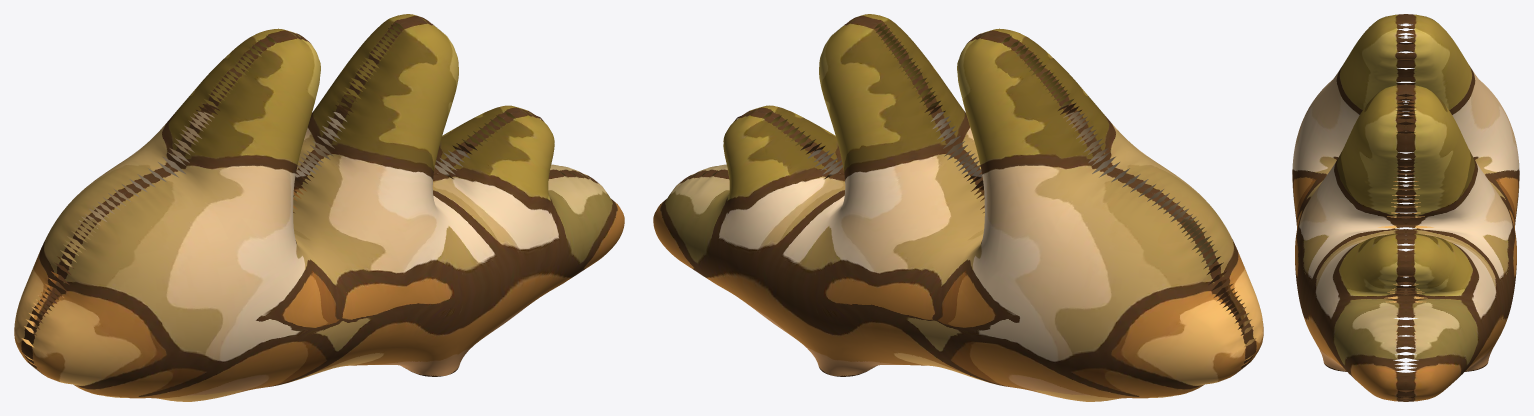
The model's file is sandstone_spurs.glb.
The picture shows the model from 3 angles, left to right: view 1: azimuth 30°, elevation 25°; view 2: azimuth 150°, elevation 25°; view 3: azimuth 270°, elevation 25°; orthographic projection. The views are drawn at different scales.
Parts seen in each view (by area): view 1: sandstone_spurs; view 2: sandstone_spurs; view 3: sandstone_spurs.
Boxes of the visible parts, x1=… form: sandstone_spurs: x1=14, y1=14, x2=624, y2=401; sandstone_spurs: x1=653, y1=14, x2=1263, y2=401; sandstone_spurs: x1=1292, y1=14, x2=1519, y2=401.
Bounding box in the file's own units: 0.989 × 0.5352 × 0.3764.
Materials: 1 (1 with a texture image).
